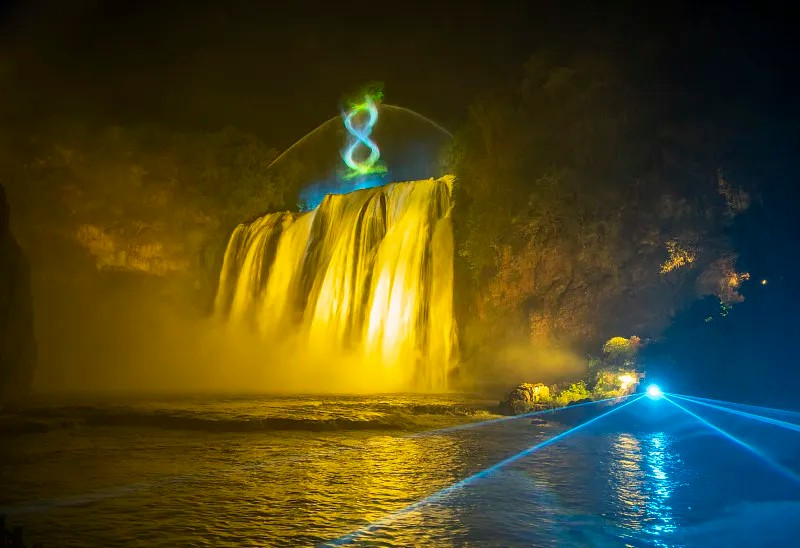Huangguoshu: (211, 175, 453, 394)
